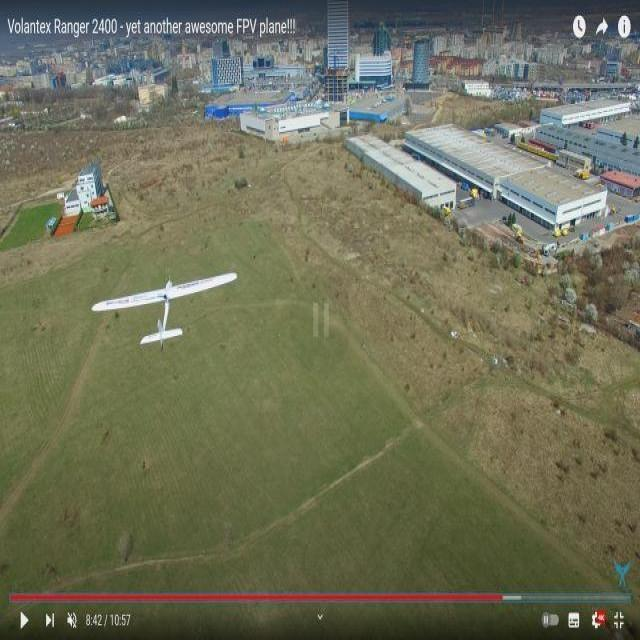Airplane: (86, 268, 248, 352)
